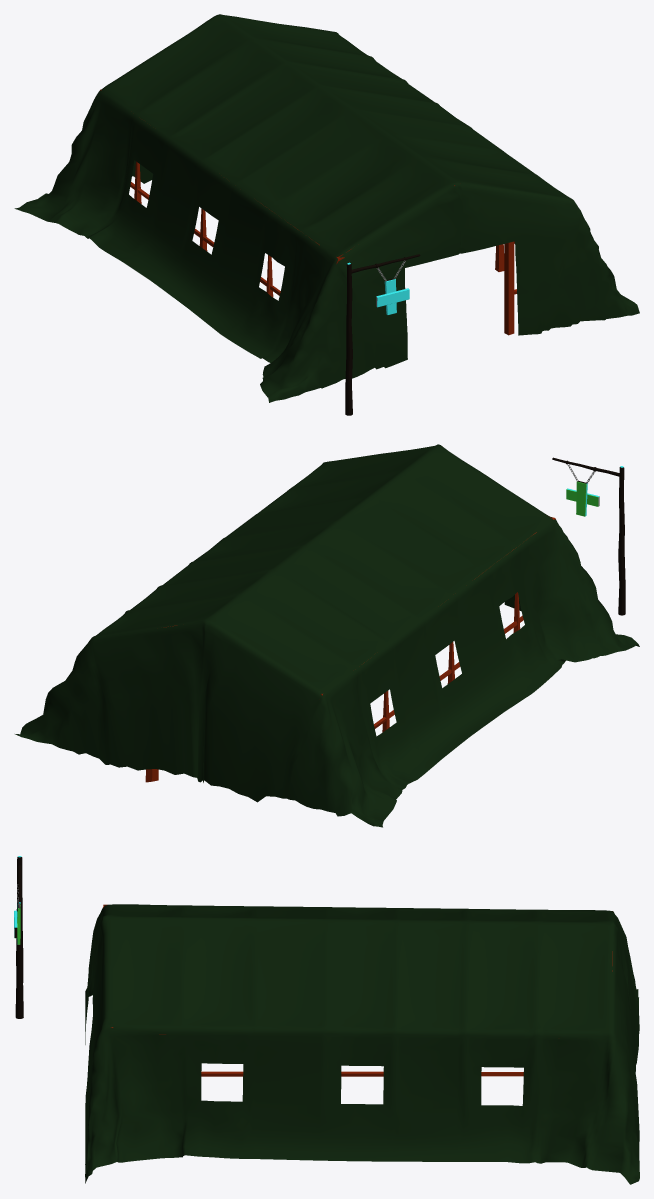
The model's file is Clinique_02.fbx.
3 renders of one model, top to bottom at view 1: azimuth 30°, elevation 25°; view 2: azimuth 150°, elevation 25°; view 3: azimuth 270°, elevation 25°, orthographic. The views are drawn at different scales.
Visible parts, largest first — view 1: Clinique_02; view 2: Clinique_02; view 3: Clinique_02.
Part boxes in pixels (x1=…): Clinique_02: x1=14, y1=14, x2=639, y2=415; Clinique_02: x1=15, y1=444, x2=639, y2=827; Clinique_02: x1=14, y1=856, x2=639, y2=1184.
Bounding box in the file's own units: 979 × 453 × 1303.
